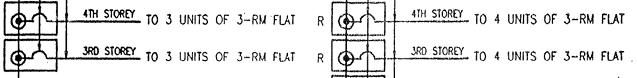Single Phase Tap-Off Unit: (324, 35, 398, 75), (327, 0, 390, 39), (0, 37, 66, 73), (1, 0, 61, 39)
